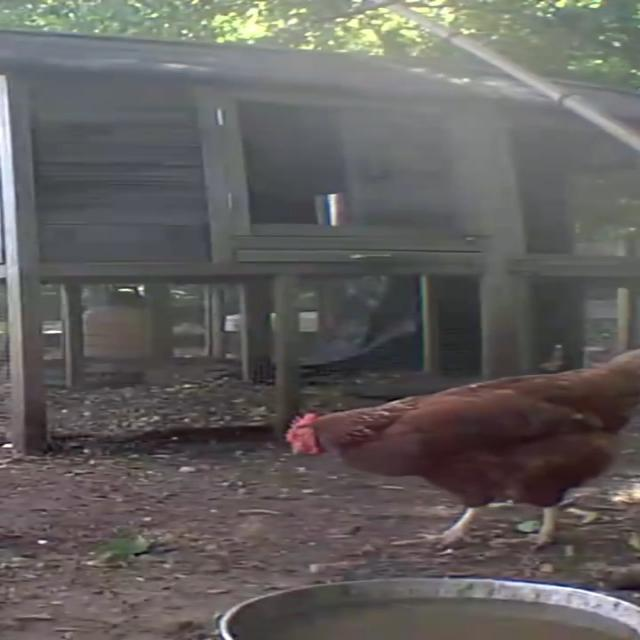walking: (284, 357, 640, 555)
